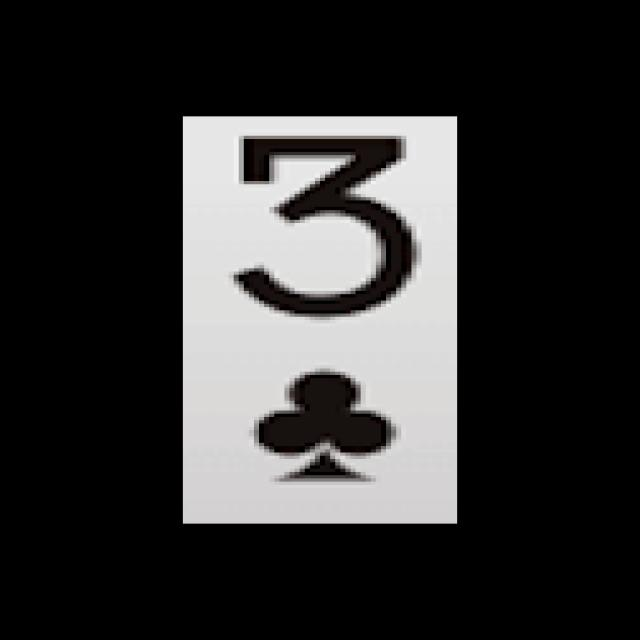3C: (211, 126, 437, 498)
